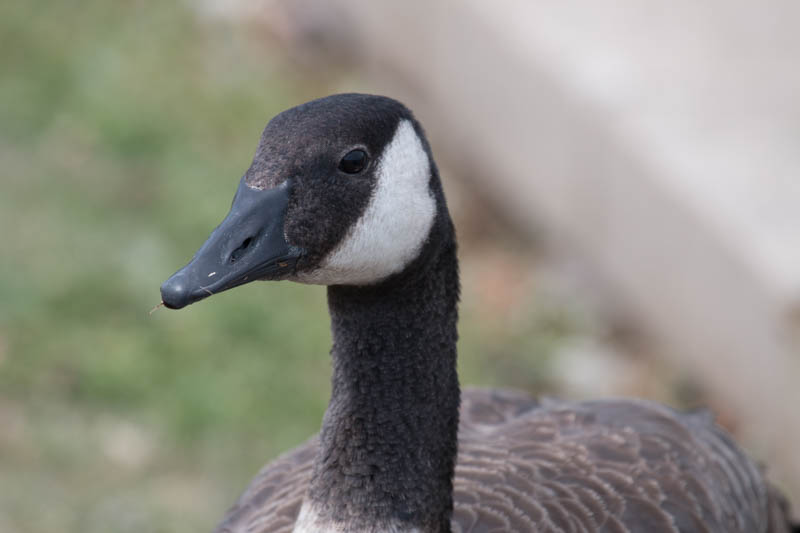goose-head: (158, 93, 458, 311)
